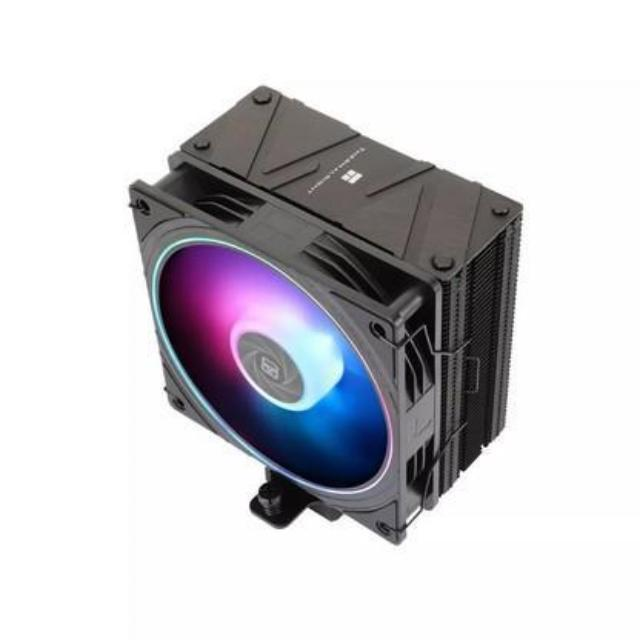CPU_Fan: (120, 84, 526, 556)
